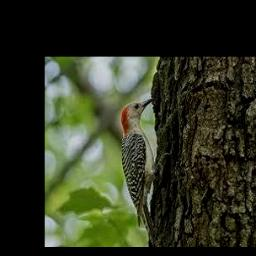Woodpecker: (121, 97, 172, 240)
